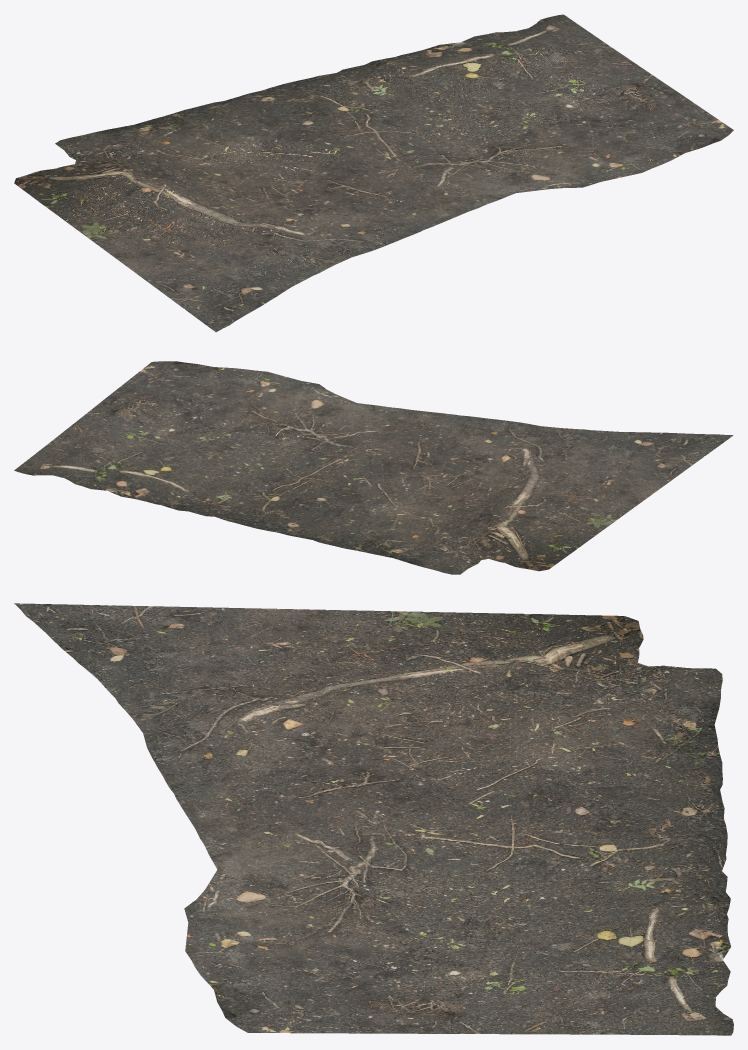
Rendered from sm_Ground_04_08.fbx.
3 views of the same model, one above another, from view 1: azimuth 30°, elevation 25°; view 2: azimuth 150°, elevation 25°; view 3: azimuth 270°, elevation 25° (orthographic). The views are drawn at different scales.
Visible parts, largest first — view 1: sm_Ground_04_08_LOD0; view 2: sm_Ground_04_08_LOD0; view 3: sm_Ground_04_08_LOD0.
Part boxes in pixels (box(x1,y1,x2,y2)): sm_Ground_04_08_LOD0: box(14, 14, 733, 332); sm_Ground_04_08_LOD0: box(14, 361, 733, 574); sm_Ground_04_08_LOD0: box(14, 603, 733, 1035).
Size of the model in its own units: 245 by 175 by 6.01.
